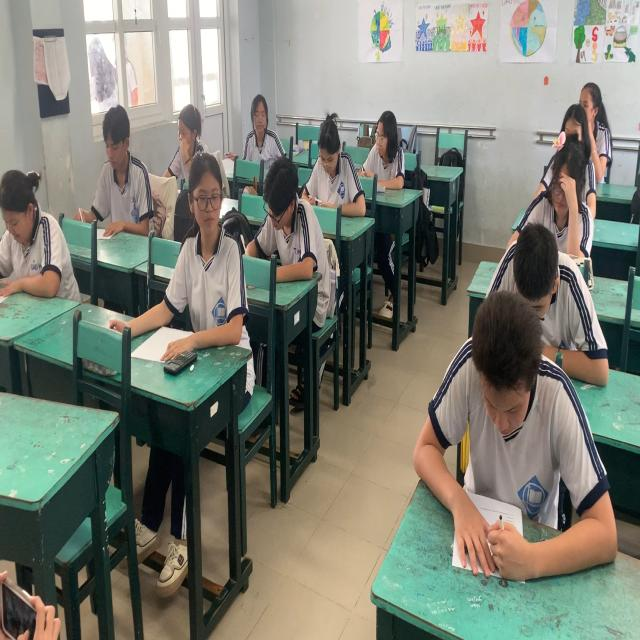cheating: (239, 81, 280, 168)
not_cheating: (446, 302, 571, 522), (0, 148, 74, 323), (182, 151, 245, 353), (92, 98, 155, 247), (526, 149, 598, 271), (493, 220, 577, 324), (254, 157, 308, 294), (354, 94, 414, 205), (553, 55, 609, 161), (312, 110, 362, 226), (172, 89, 202, 166)
